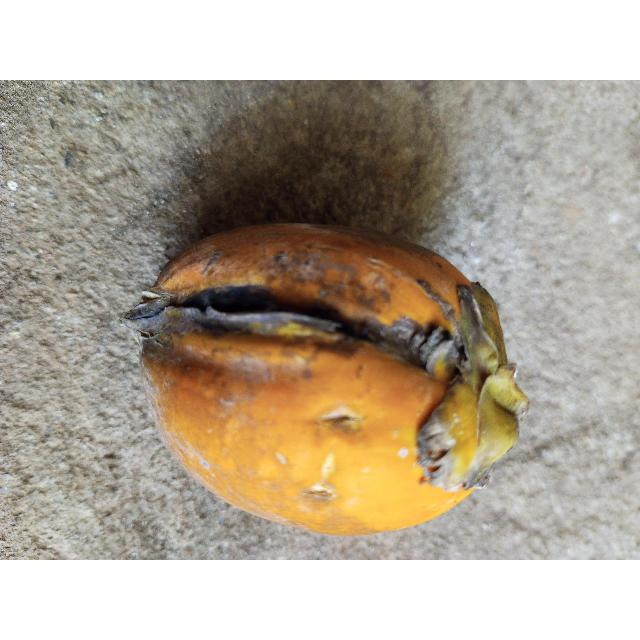damaged: (120, 223, 530, 538)
